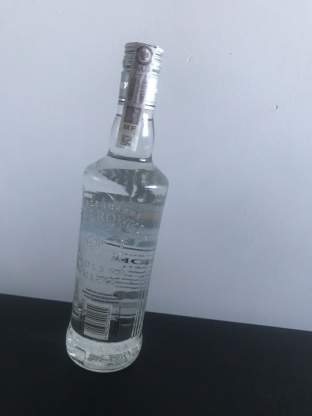nakretka: (114, 37, 166, 112)
